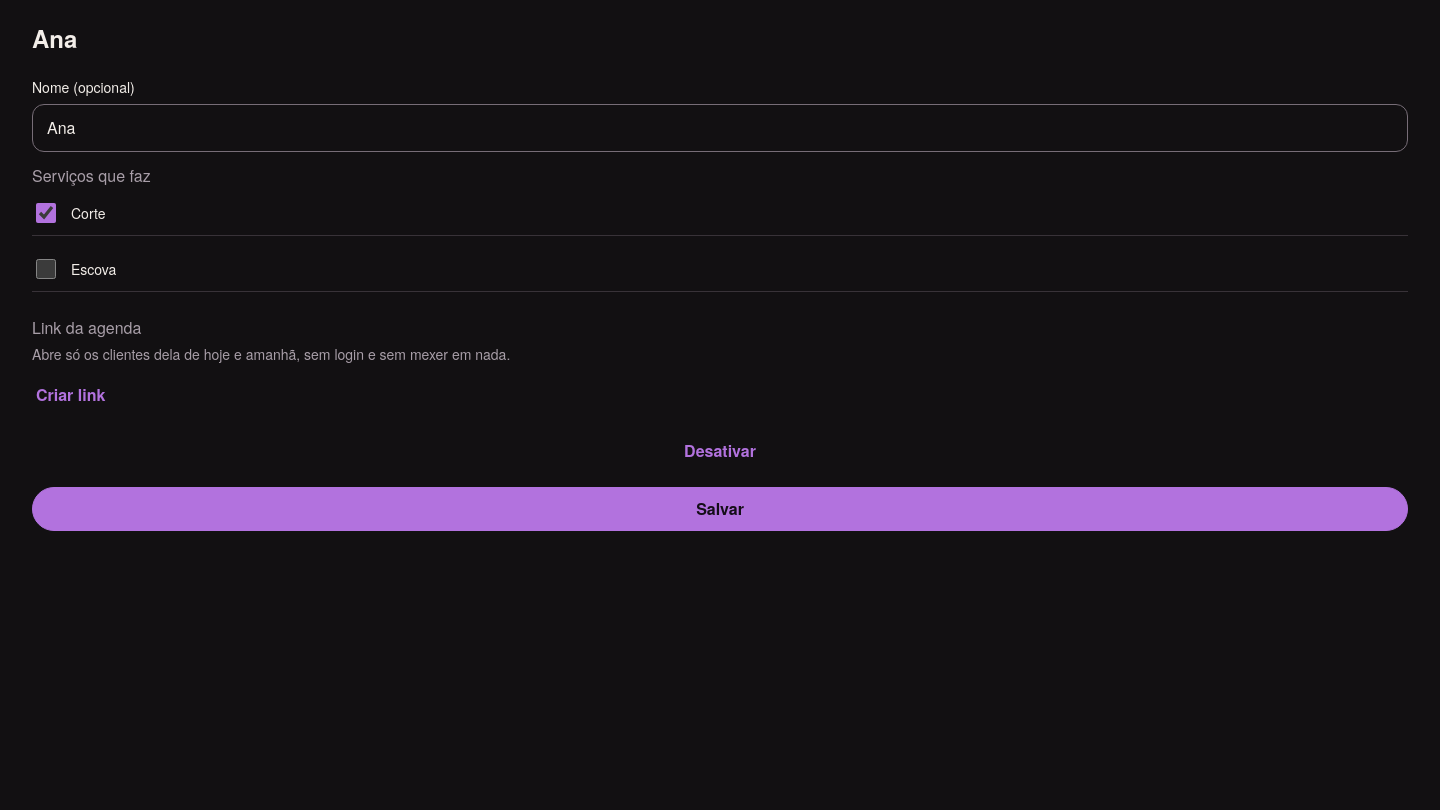
Test: PainelPessoa: link da agenda › sem link: "Criar link" gera e passa a mostrar Copiar e Trocar
Click the button "Criar link": (71, 395) [32, 373, 109, 417]
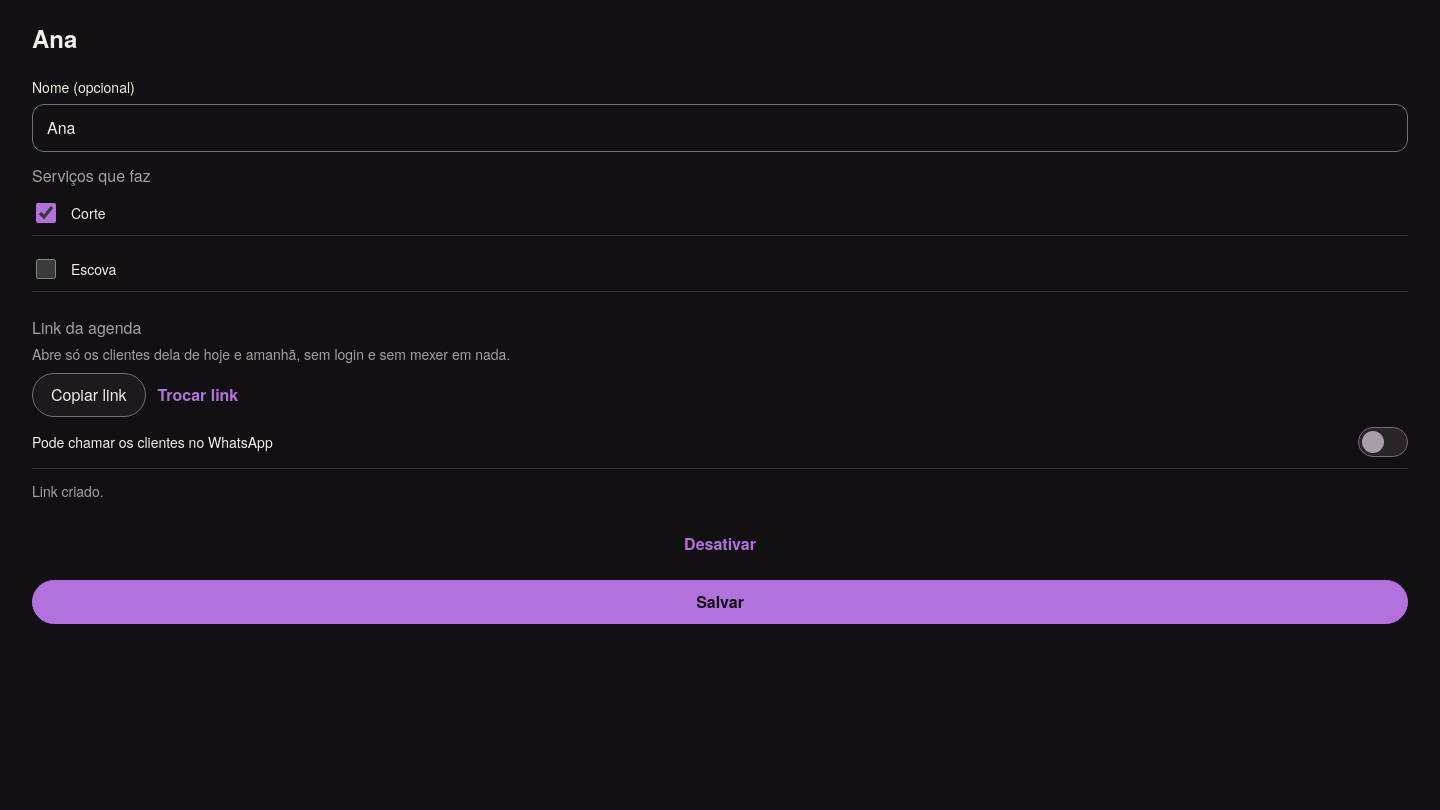
Now the button "Copiar link" is shown, box [32, 373, 146, 417]
Now the button "Trocar link" is shown, box [154, 373, 242, 417]
